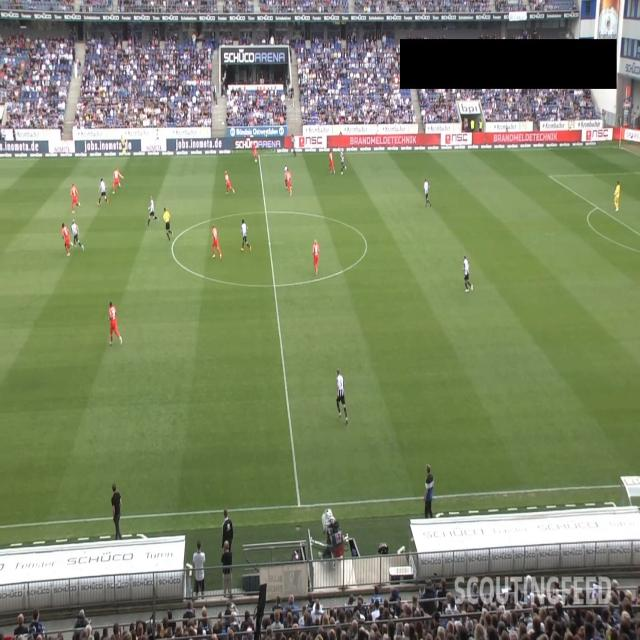ball: (222, 121, 224, 126)
